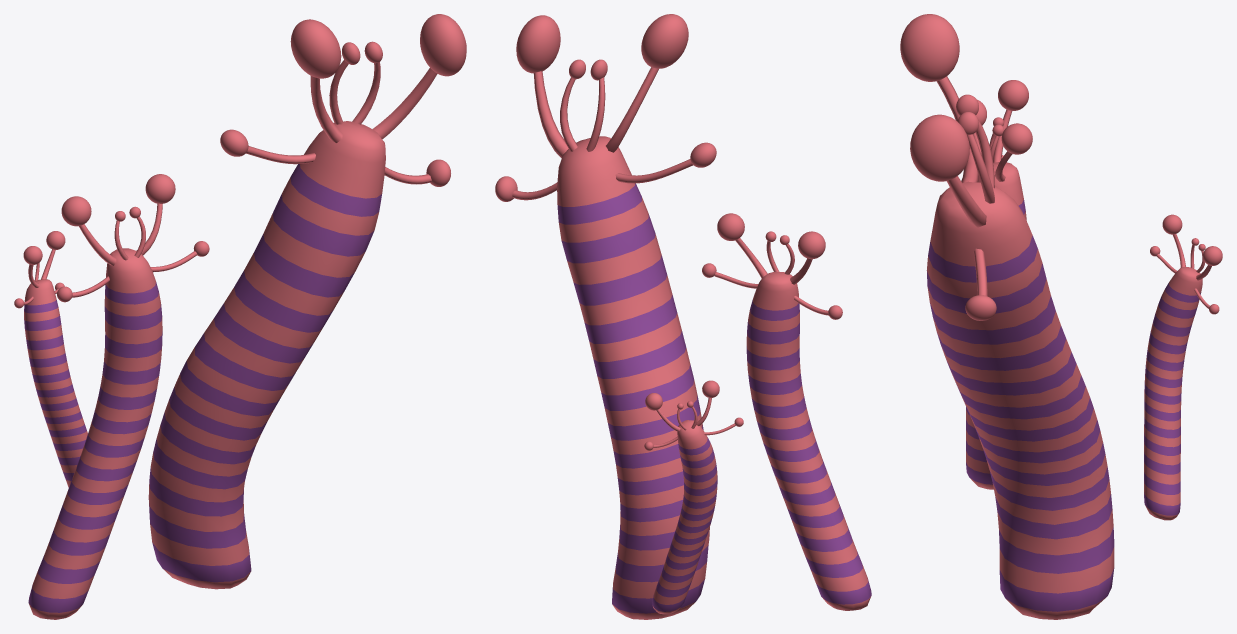
File: Plant 5.fbx
3 renders of one model, left to right at view 1: azimuth 30°, elevation 25°; view 2: azimuth 150°, elevation 25°; view 3: azimuth 270°, elevation 25°, orthographic. The views are drawn at different scales.
Visible parts, largest first — view 1: plant 5; view 2: plant 5; view 3: plant 5.
Boxes of the visible parts, x1=… form: plant 5: x1=14, y1=14, x2=466, y2=619; plant 5: x1=495, y1=14, x2=871, y2=619; plant 5: x1=900, y1=14, x2=1222, y2=619.
Size of the model in its own units: 149 by 205 by 97.52.
